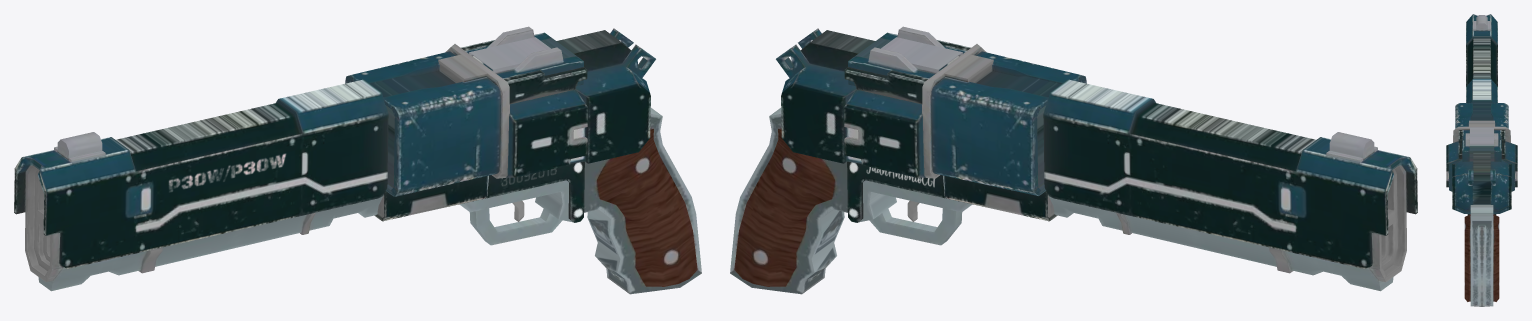
Rendered from pistol-custom.glb.
3 views of the same model, side by side, from view 1: azimuth 30°, elevation 25°; view 2: azimuth 150°, elevation 25°; view 3: azimuth 270°, elevation 25° (orthographic). The views are drawn at different scales.
Parts seen in each view (by area): view 1: P30W_P30W_P30W_P30W_0; view 2: P30W_P30W_P30W_P30W_0; view 3: P30W_P30W_P30W_P30W_0.
Boxes of the visible parts, x1,y1,x2,y2 form: P30W_P30W_P30W_P30W_0: (14,26,701,294); P30W_P30W_P30W_P30W_0: (730,26,1417,294); P30W_P30W_P30W_P30W_0: (1446,14,1517,306).
Bounding box in the file's own units: 0.5281 × 0.2174 × 0.0985.
Materials: 1 (1 with a texture image).
